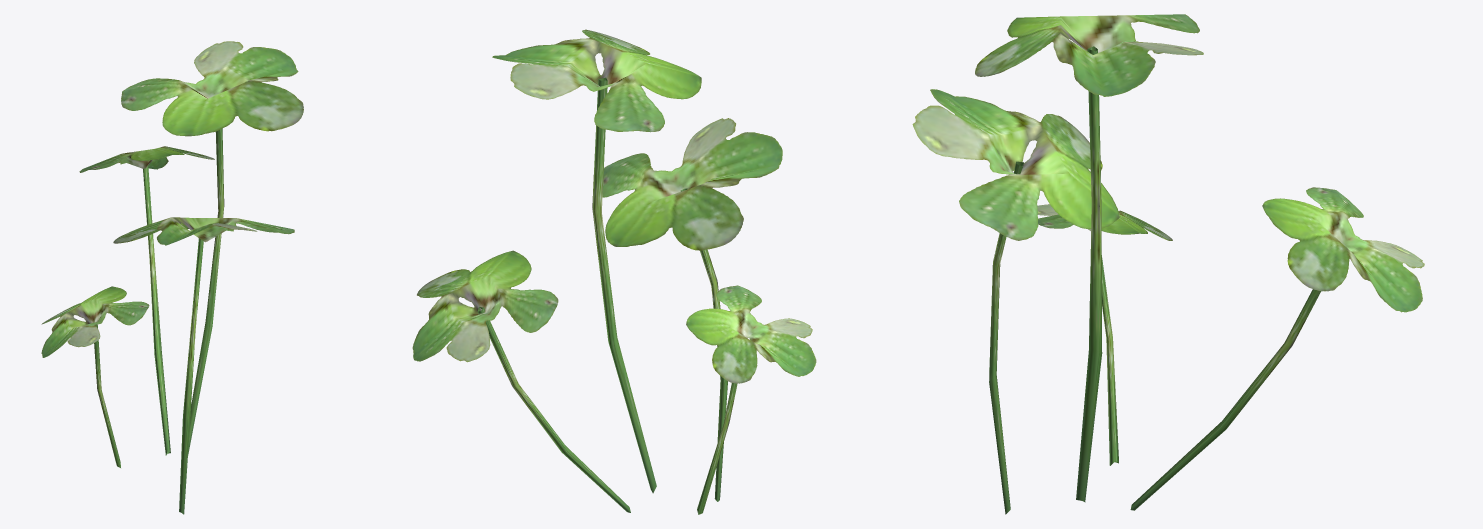
File: S_Plant_Green016.FBX
3 views of the same model, side by side, from view 1: azimuth 30°, elevation 25°; view 2: azimuth 150°, elevation 25°; view 3: azimuth 270°, elevation 25° (orthographic). The views are drawn at different scales.
Parts seen in each view (by area): view 1: S_Plant_Green016; view 2: S_Plant_Green016; view 3: S_Plant_Green016.
Boxes of the visible parts, bbox=[...] form: S_Plant_Green016: bbox=[41, 41, 303, 514]; S_Plant_Green016: bbox=[412, 29, 816, 514]; S_Plant_Green016: bbox=[912, 14, 1424, 514].
Size of the model in its own units: 469 by 609 by 623.
